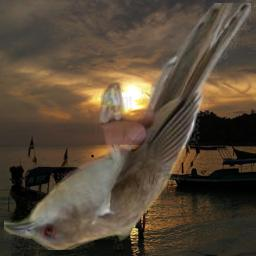Cuckoo: (4, 3, 251, 250)
